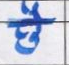ai_matra: (22, 0, 45, 21)
